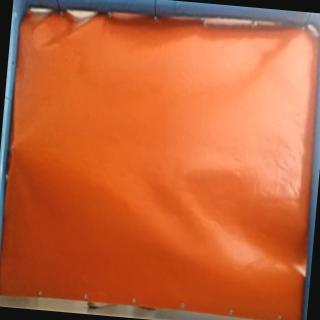Hit-hRxx: (6, 140, 22, 156)
